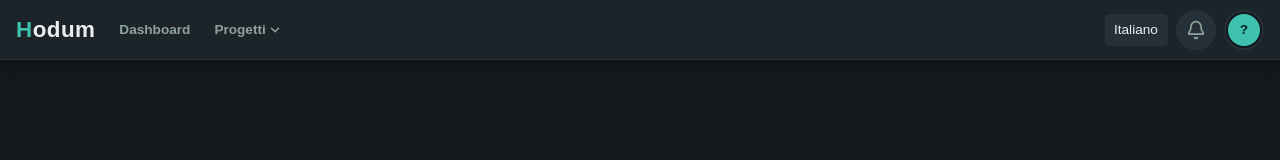
Test: TopbarComponent › opens the menu with the Modifica account and Disconnetti options when the account button is clicked
The image size is (1280, 160).
Step 1. Click the button named "Menu account" → x=1244, y=30, box [1224,10,1264,50]
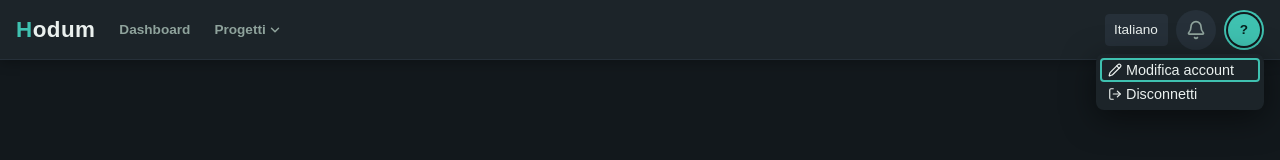
Expected: the menu is shown, [1096,54,1264,110]
Expected: the menu item "Modifica account" is shown, [1100,58,1260,82]
Expected: the menu item "Disconnetti" is shown, [1100,82,1260,106]
